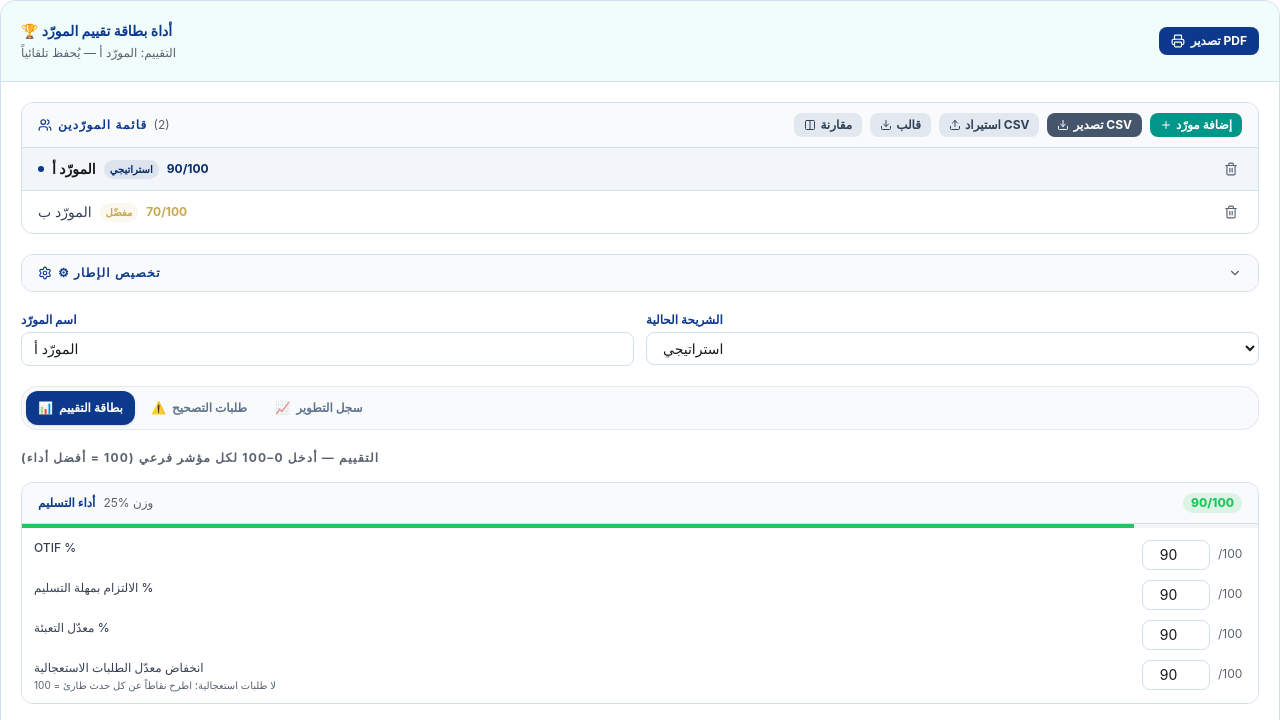
Test: Compare view — Arabic weighted score footer winner › displays the winning supplier name with a trophy in the footer winner cell
This screenshot has width=1280, height=720.
Click the button "مقارنة" at (828, 125), box [794, 113, 862, 137]
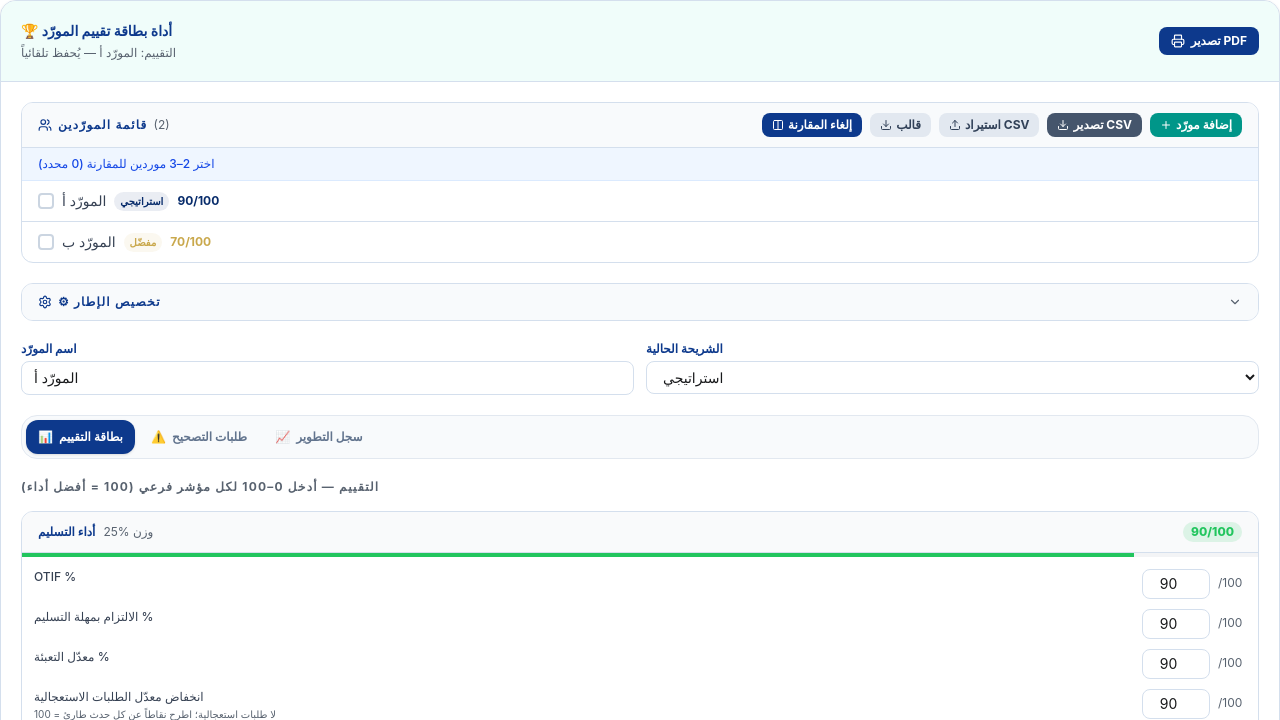
Click the text "المورّد أ" at (84, 201), box [62, 191, 106, 211]
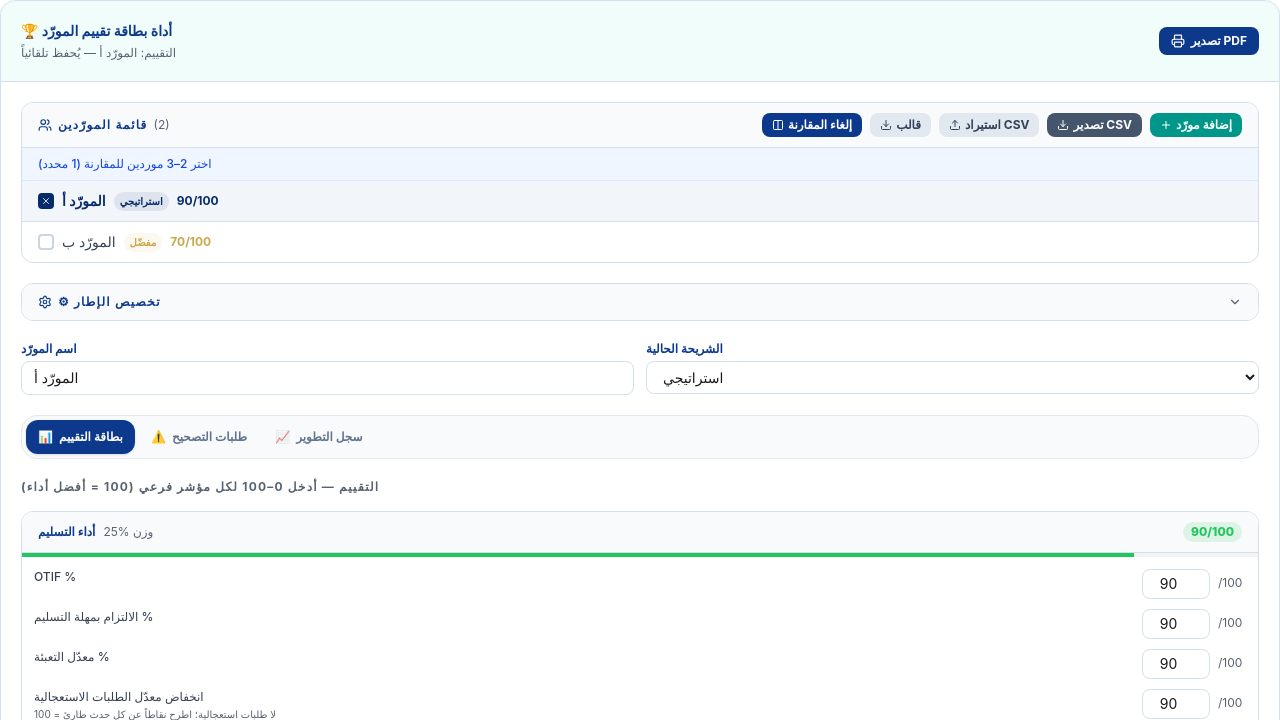
Click the text "المورّد ب" at (89, 242), box [62, 232, 116, 252]
(page scrolled)
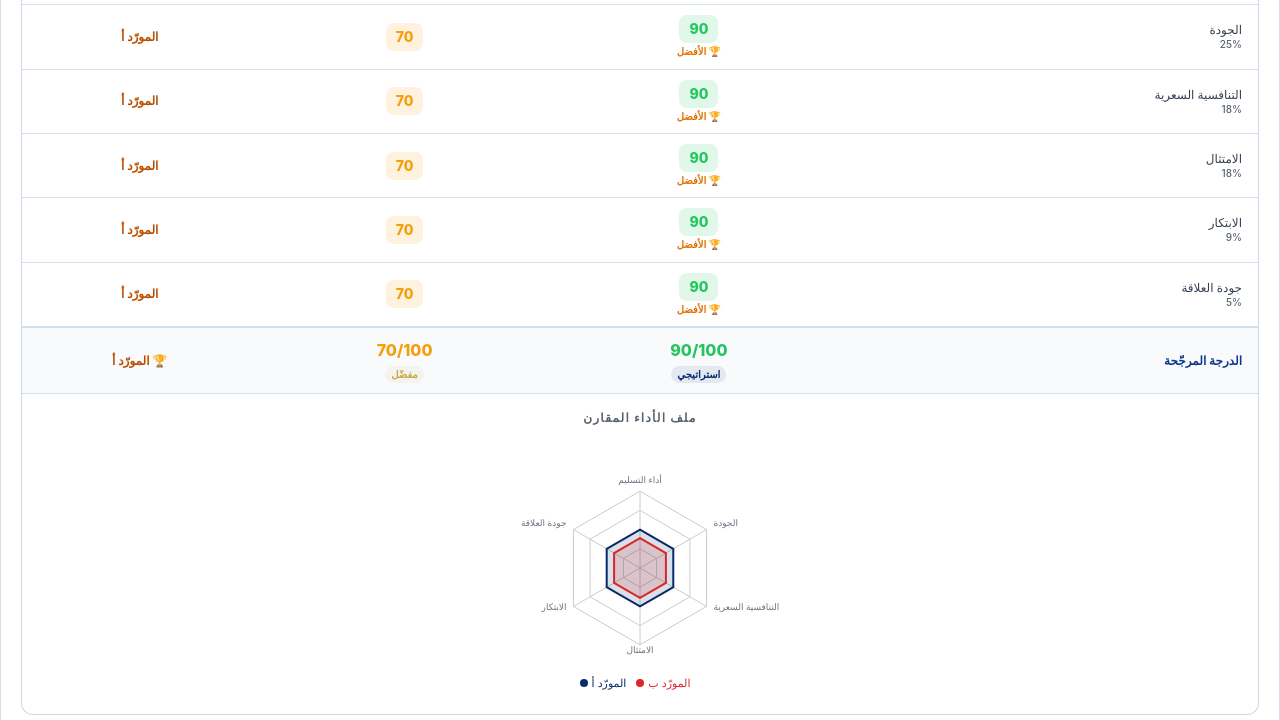
Expected: the text "🏆 المورّد أ" is shown, [112, 353, 167, 368]
